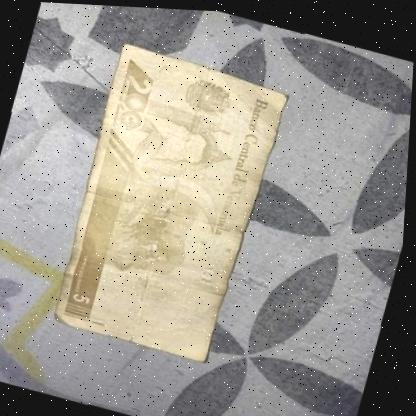five-back-vef: (48, 38, 293, 365)
